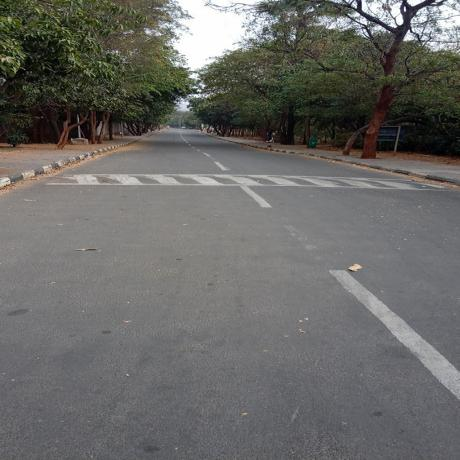Speed Bump: (11, 174, 453, 189)
